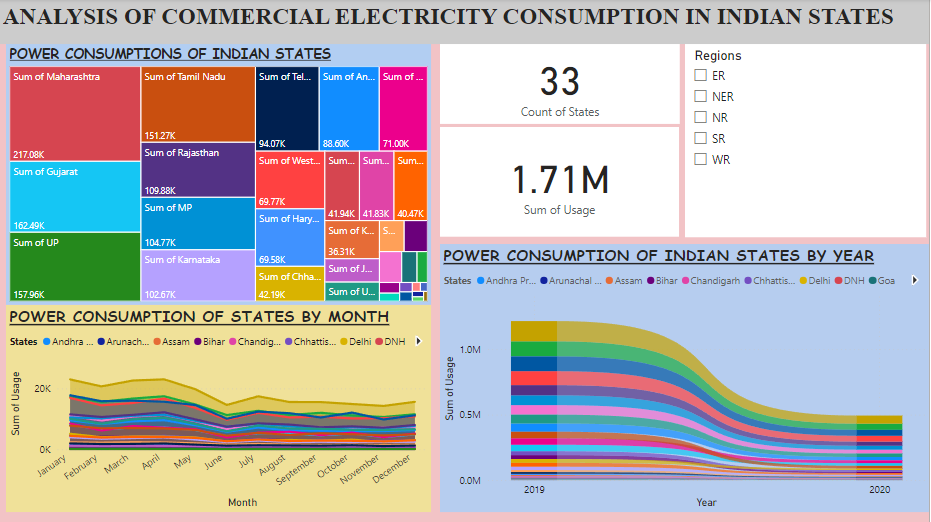

The page's visual inventory and layout, read from the dashboard file:
{"tool":"powerbi","page":{"name":"ANALYSIS OF POWER CONSUMPTION","canvas":[1280,720],"ordinal":2},"visuals":[{"type":"treemap","title":"POWER CONSUMPTIONS OF INDIAN STATES","fields":{"Values":["Sum(1_data.Andhra Pradesh)","Sum(1_data.Arunachal Pradesh)","Sum(1_data.Kerala)","Sum(1_data.Assam)","Sum(1_data.Bihar)","Sum(1_data.Chandigarh)","Sum(1_data.Chhattisgarh)","Sum(1_data.Delhi)","Sum(1_data.DNH)","Sum(1_data.Goa)","Sum(1_data.Gujarat)","Sum(1_data.Haryana)"]},"box":[9.6,61.9,584.9,359.2],"z":0},{"type":"card","fields":{"Values":["Count(2_data.States)"]},"box":[607,61.9,330.3,110.1],"z":1000},{"type":"card","fields":{"Values":["Sum(2_data.Usage)"]},"box":[607,176.2,328.9,151.4],"z":2000},{"type":"areaChart","title":"POWER CONSUMPTION OF STATES BY MONTH","fields":{"Category":["2_data.Dates.Variation.Date Hierarchy.Month"],"Y":["Sum(2_data.Usage)"],"Series":["2_data.States"]},"box":[9.6,421.2,584.9,284.9],"z":3000},{"type":"slicer","fields":{"Values":["2_data.Regions"]},"box":[944.2,61.9,331.7,265.6],"z":4000},{"type":"ribbonChart","title":"POWER CONSUMPTION OF INDIAN STATES BY YEAR","fields":{"Category":["2_data.Dates.Variation.Date Hierarchy.Year"],"Y":["Sum(2_data.Usage)"],"Series":["2_data.States"]},"box":[607,337.2,673,368.9],"z":5000},{"type":"textbox","box":[0,0,1280,61.9],"z":5001}]}

Visuals, with their boxes in screenshot pixels (x1, y1, x2, y2), scaled from the page's 1280x720 canvas onto the 931x522 screenshot:
"POWER CONSUMPTIONS OF INDIAN STATES" treemap: x1=7, y1=45, x2=432, y2=305
card - Count(2_data.States): x1=441, y1=45, x2=682, y2=125
card - Sum(2_data.Usage): x1=441, y1=128, x2=681, y2=238
"POWER CONSUMPTION OF STATES BY MONTH" areaChart: x1=7, y1=305, x2=432, y2=512
slicer - 2_data.Regions: x1=687, y1=45, x2=928, y2=237
"POWER CONSUMPTION OF INDIAN STATES BY YEAR" ribbonChart: x1=441, y1=244, x2=930, y2=512
textbox: x1=0, y1=0, x2=930, y2=45
